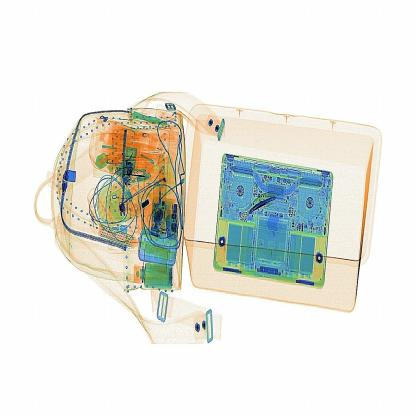pliers: (242, 180, 290, 222)
